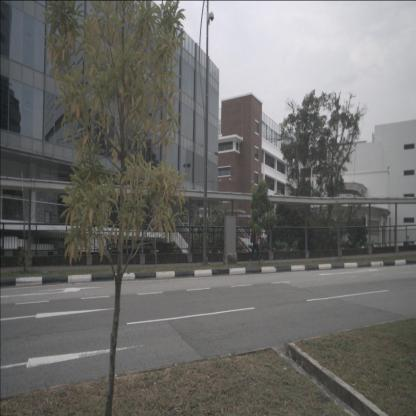human-pedestrian-adult: (249, 221, 263, 263)
